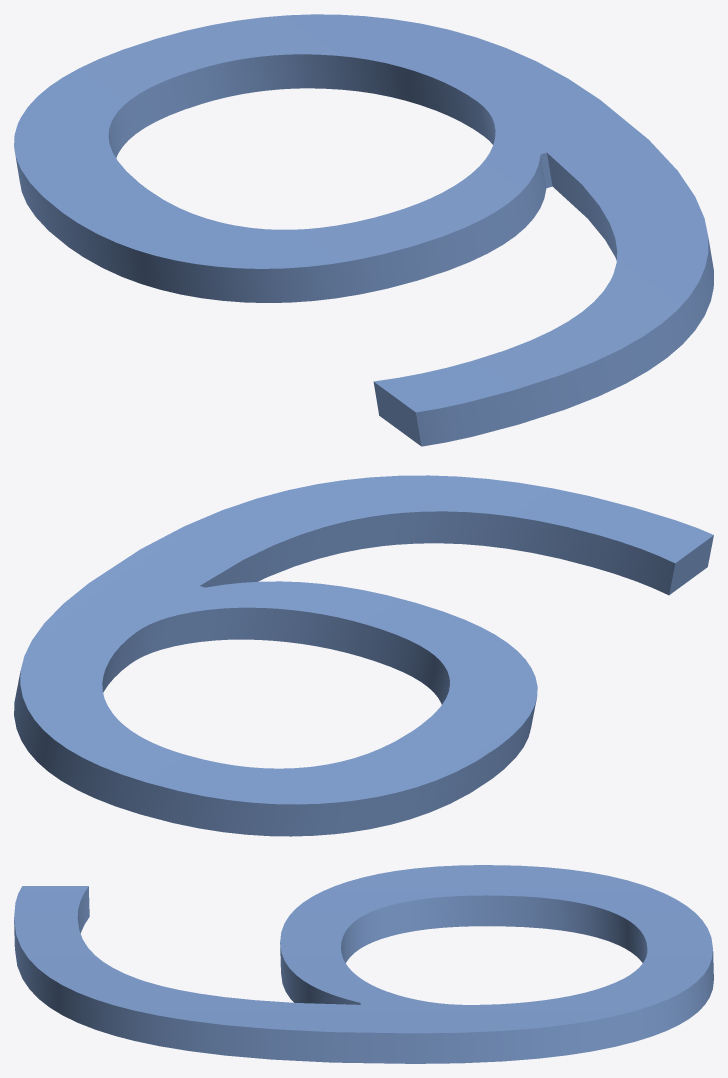
The model's file is New_Number_6.gltf.
3 renders of one model, top to bottom at view 1: azimuth 30°, elevation 25°; view 2: azimuth 150°, elevation 25°; view 3: azimuth 270°, elevation 25°, orthographic. The views are drawn at different scales.
Visible parts, largest first — view 1: Part 285; view 2: Part 285; view 3: Part 285.
Boxes of the visible parts, box(x1,y1,x2,y2) form: Part 285: box(14, 14, 713, 446); Part 285: box(14, 475, 713, 836); Part 285: box(14, 865, 713, 1063).
Size of the model in its own units: 0.00365 by 0.000433 by 0.00566.
